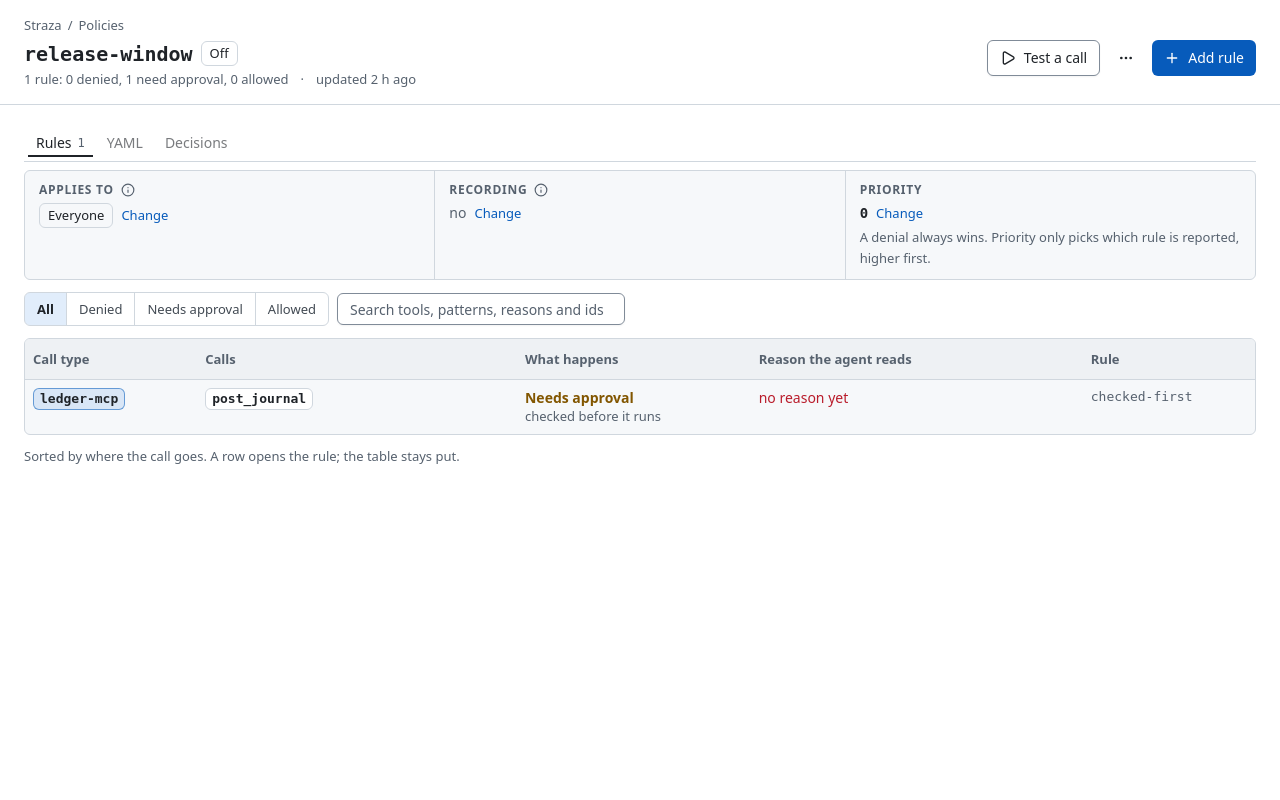
Test: a policy's page, as it reads › sends a rule the cards cannot edit to the text, in the same sheet
Click the button with aria-label "Open rule checked-first": x=640, y=406 [25,379,1255,434]
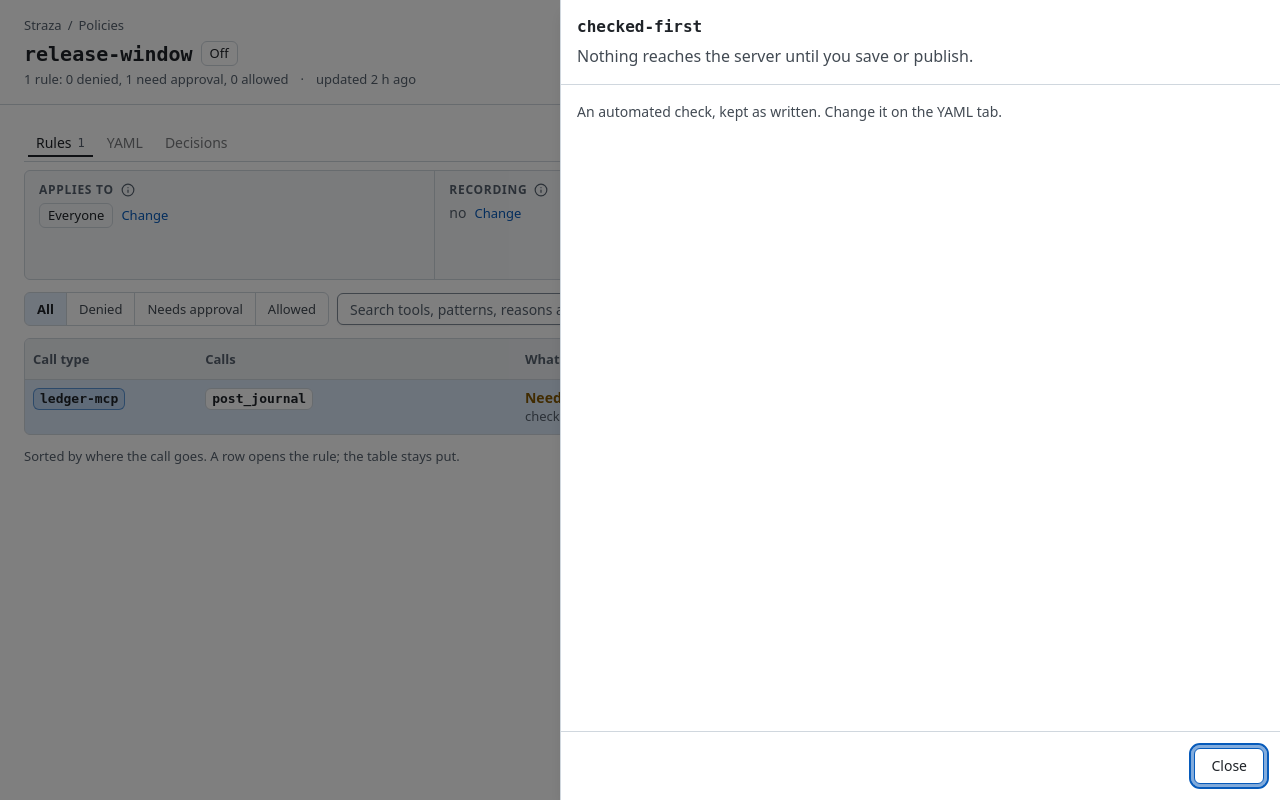
expect the dialog is shown: met, box [560,0,1279,799]
expect the dialog shows "An automated check, kept as written. Change it on the YAML tab.": met, box [577,102,1002,121]
